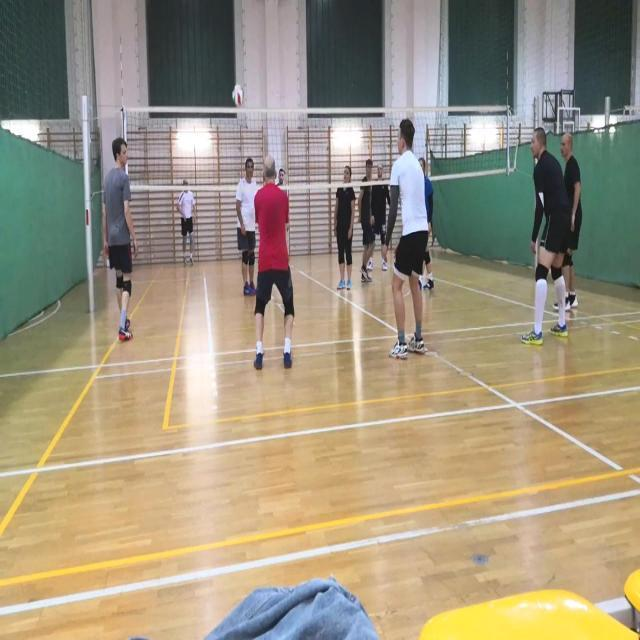volleyball: (232, 85, 245, 105)
